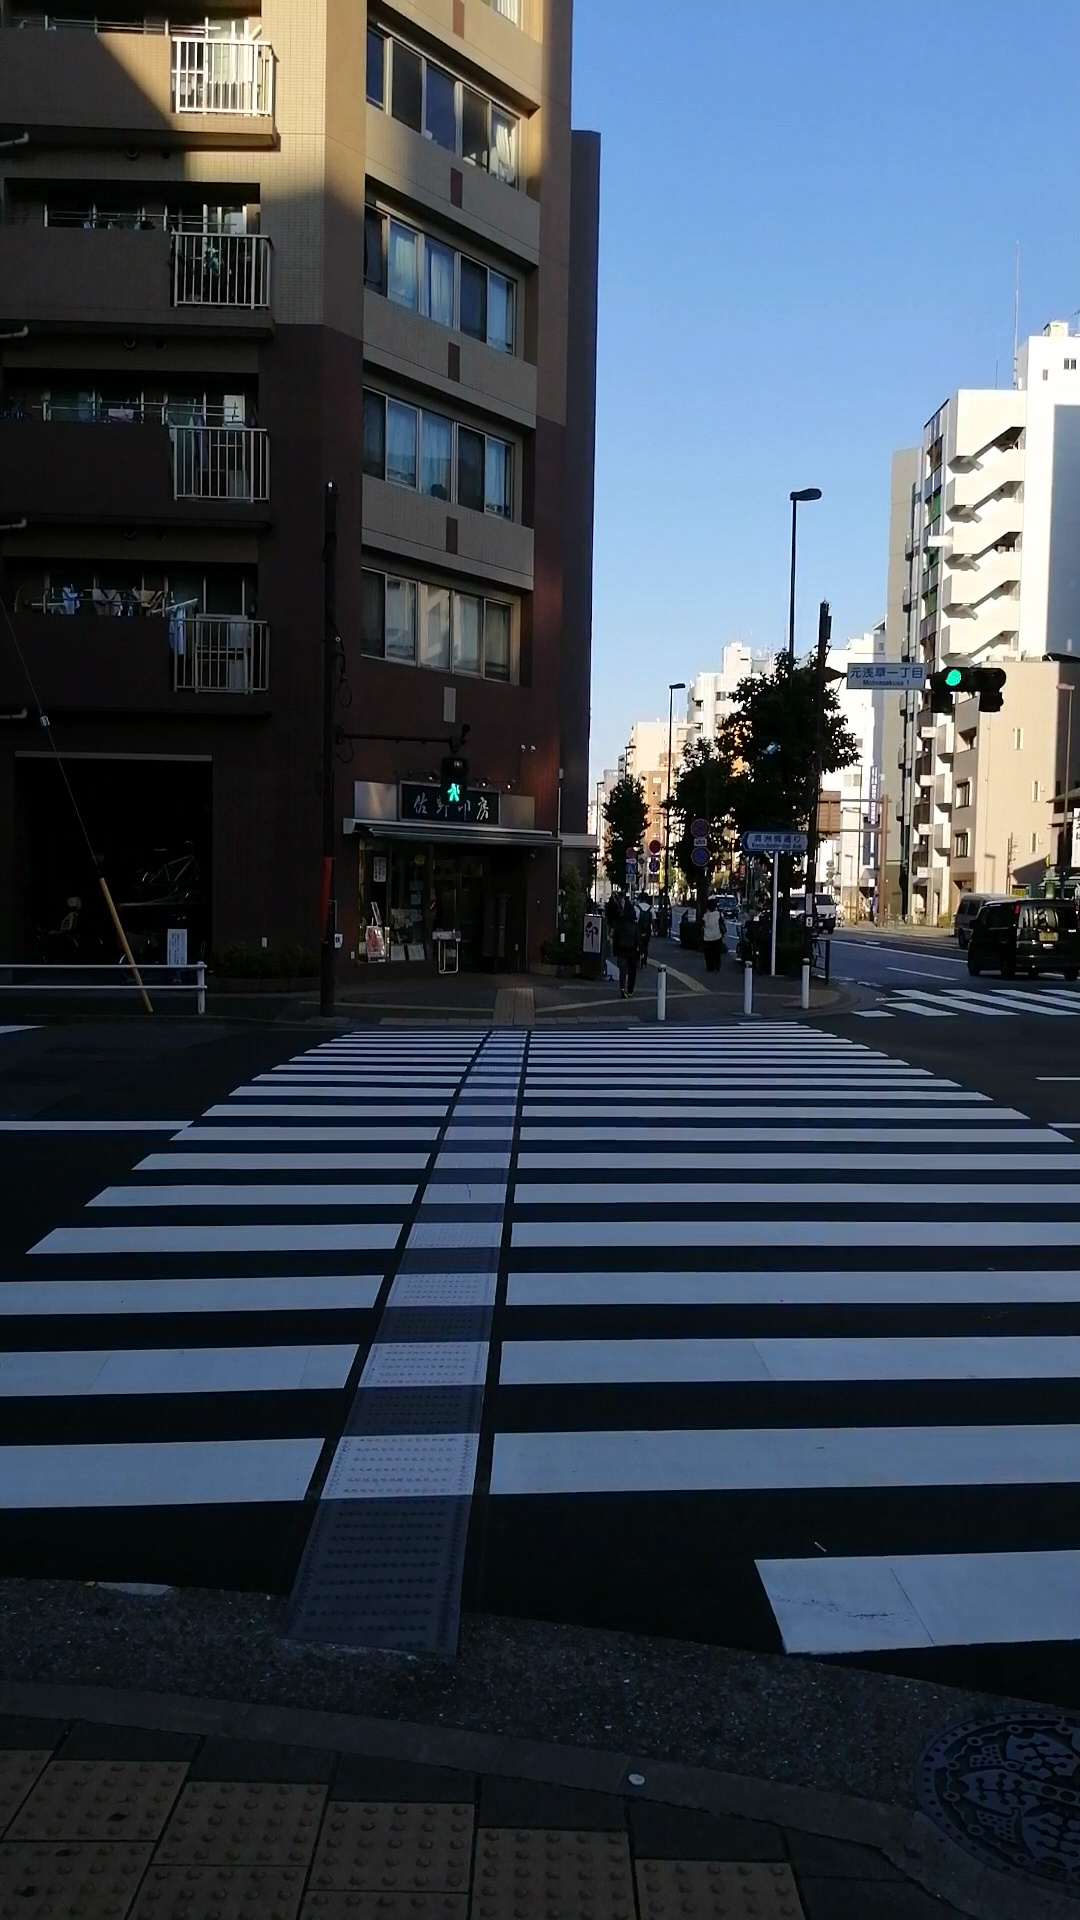green: (439, 754, 467, 810)
